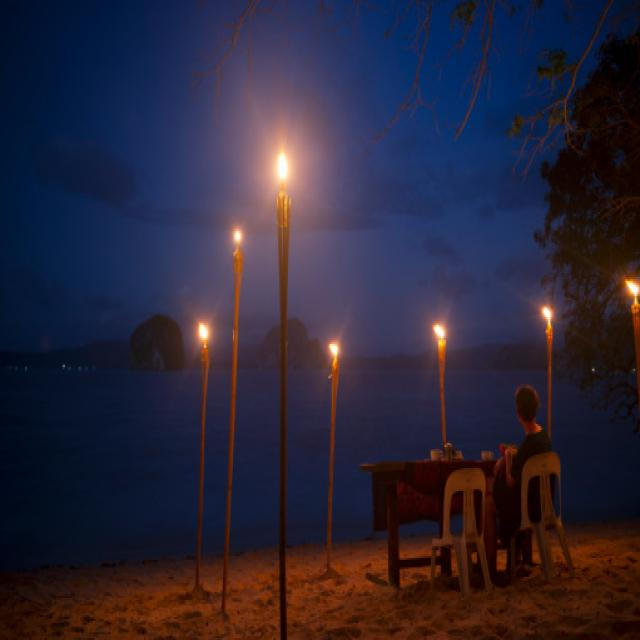People: (496, 376, 553, 554)
Table: (365, 425, 561, 597)
chair: (422, 461, 499, 607), (507, 450, 576, 592)
